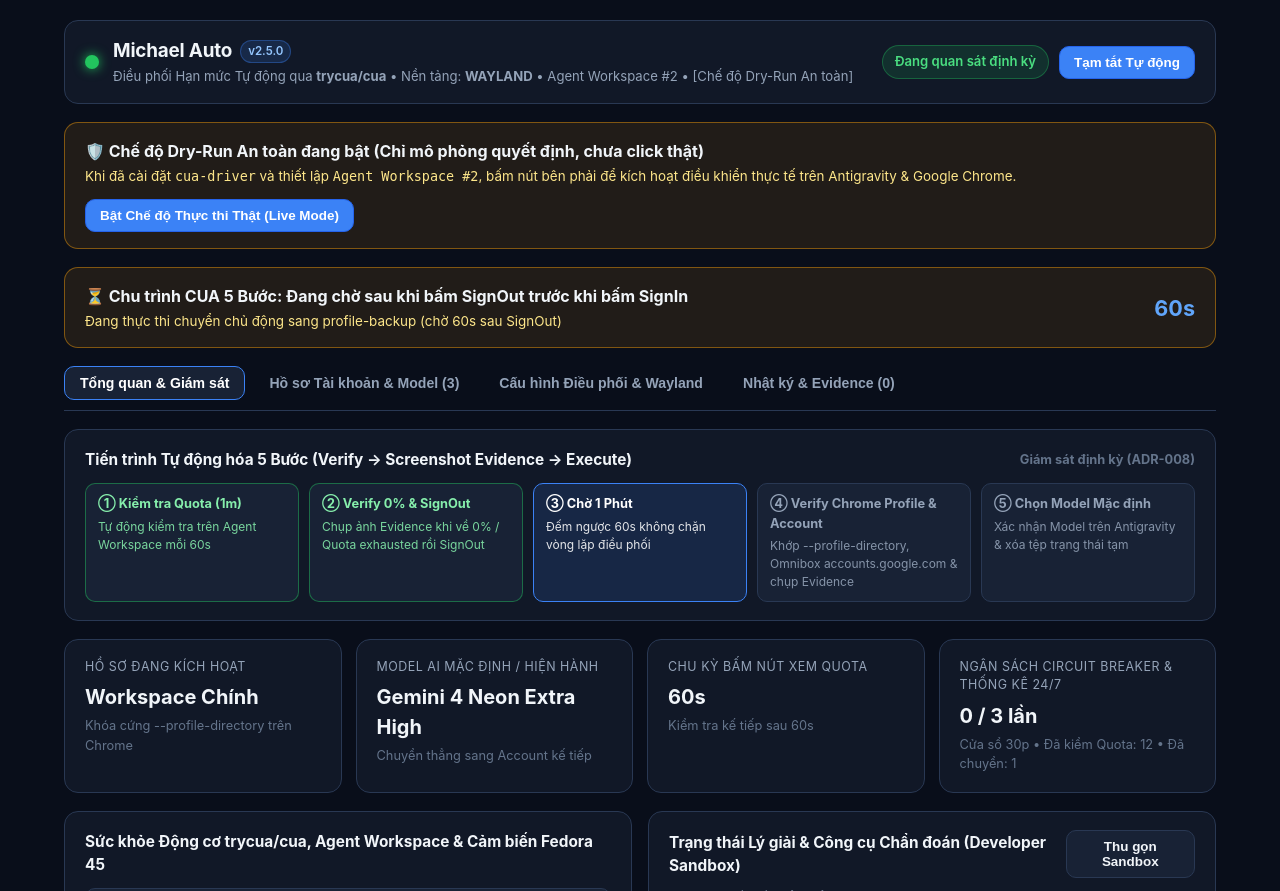
Test: Michael Auto Desktop Dashboard v2.5 Production › surfaces legacy GNOME Bridge v2->v4 relogin warning and supports audit log filtering & clearing
# Navigate to Logs & Evidence tab, filter by ERROR (0 results), then switch back to ALL and clear logs.
Step 1. Click the button "Nhật ký & Evidence (0)" → (819, 383), box [727,366,911,400]
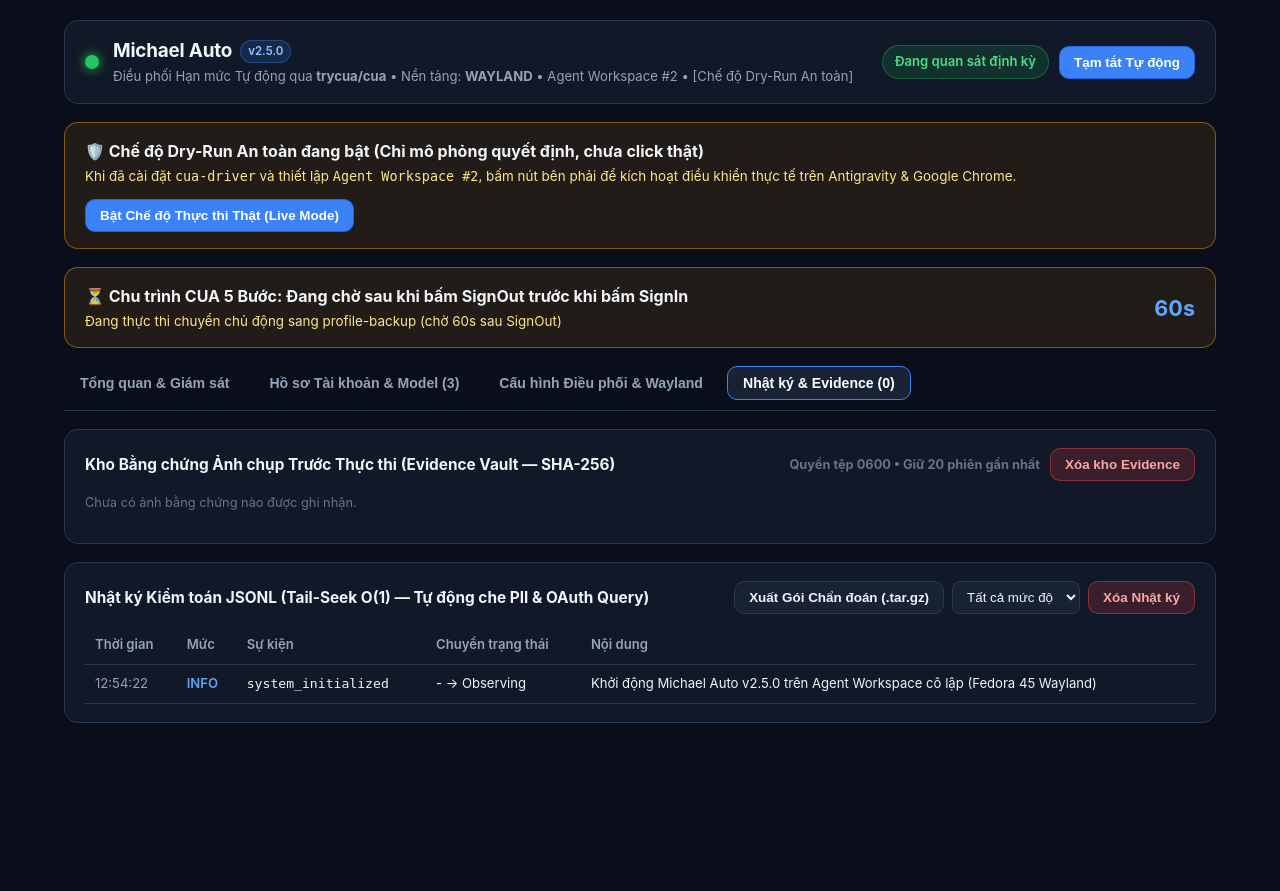
Check: the text "Khởi động Michael Auto v2.5.0" is shown, box [591,675,1097,691]
Step 2. Select "ERROR" in the dropdown → (1016, 598), box [952,581,1080,614]
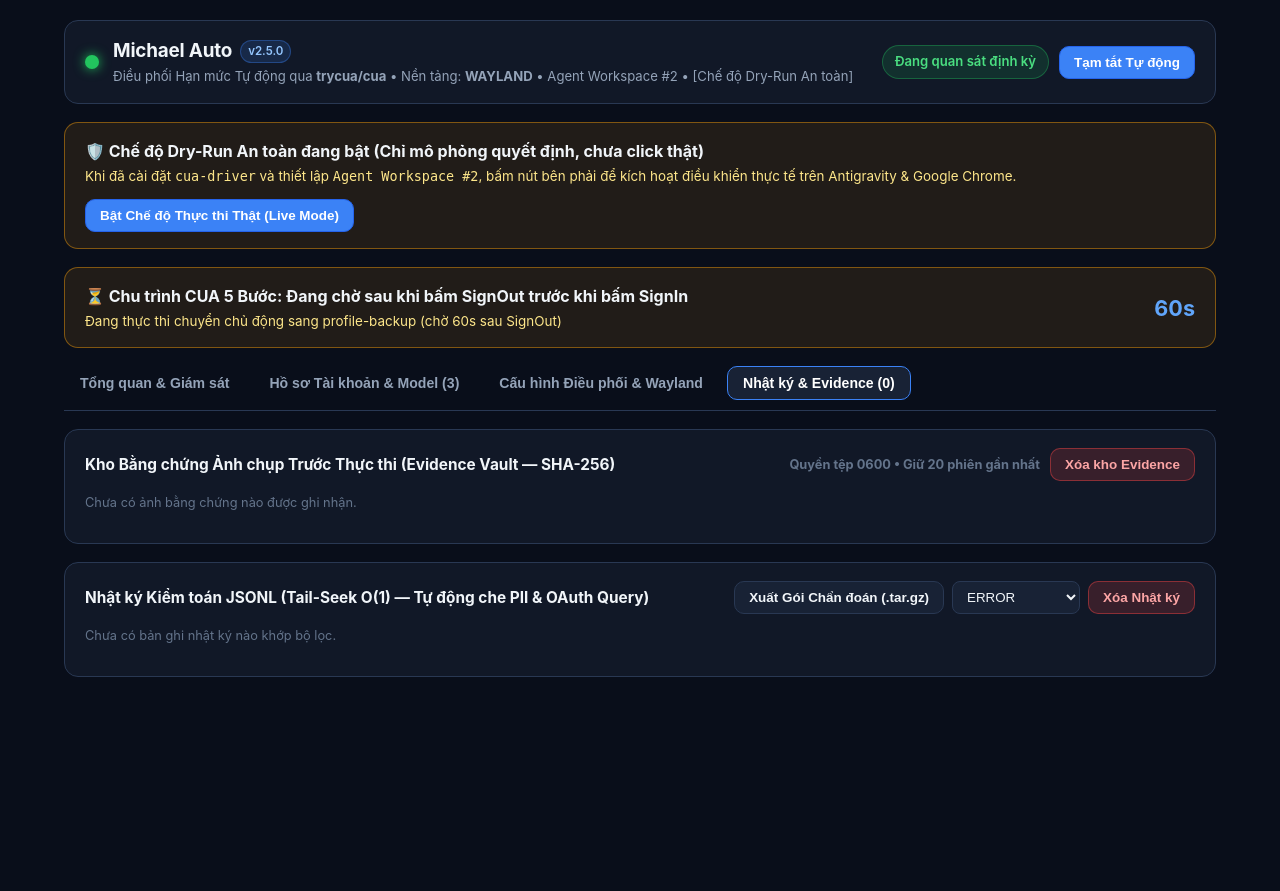
Check: the text "Khởi động Michael Auto v2.5.0" is gone
Step 3. Select "Tất cả mức độ" in the dropdown → (1016, 598), box [952,581,1080,614]
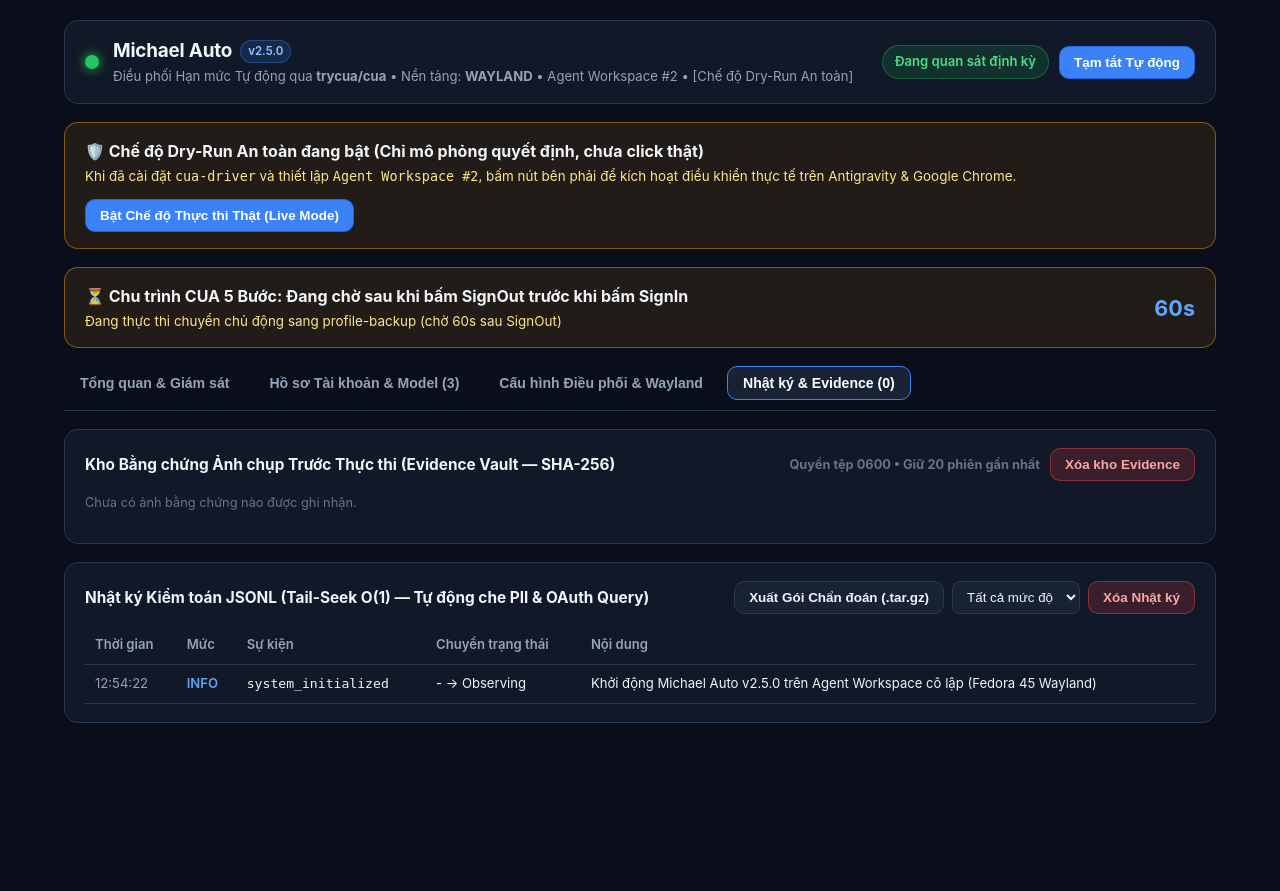
Check: the text "Khởi động Michael Auto v2.5.0" is shown, box [591,675,1097,691]
Step 4. Click the button "Xóa Nhật ký" → (1142, 598), box [1088,581,1195,614]
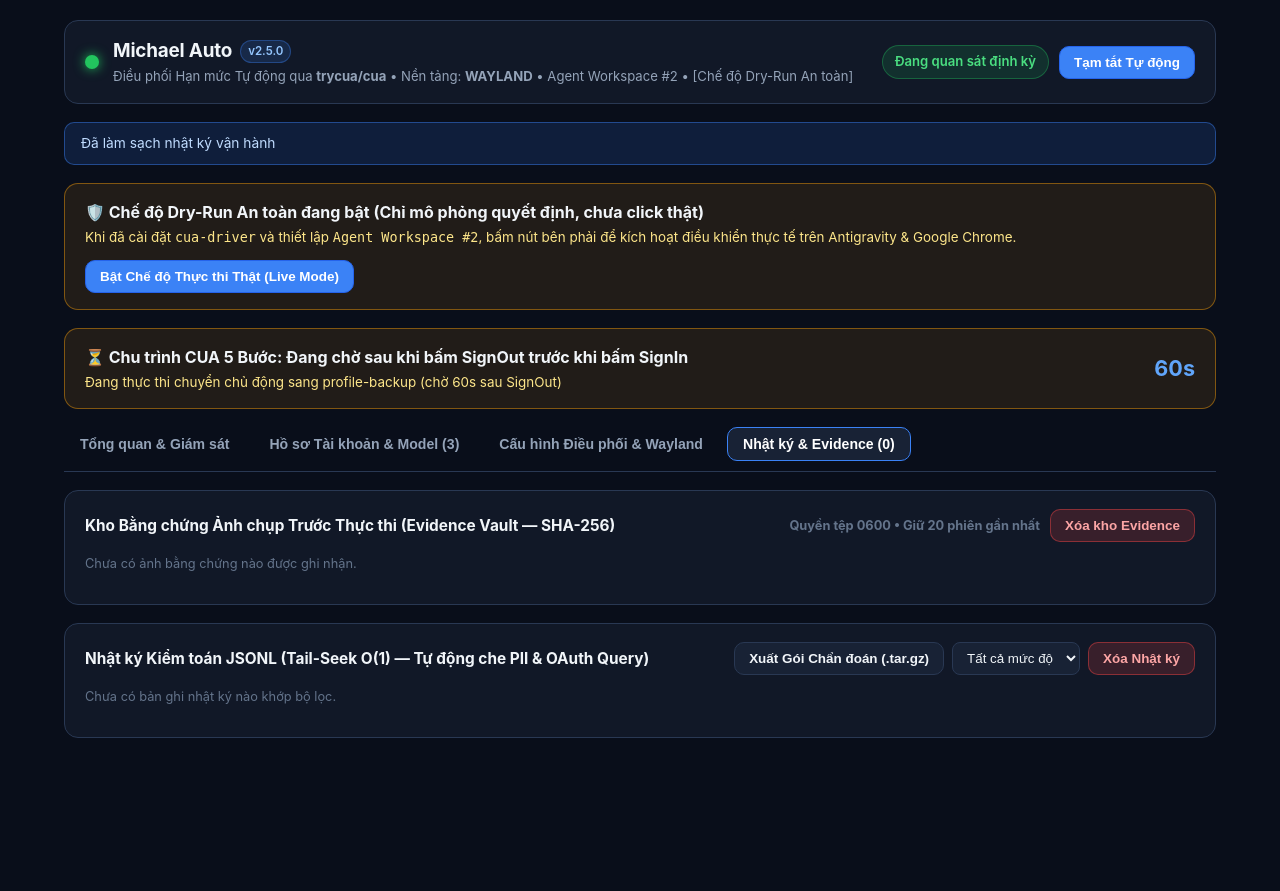
Check: the text "Khởi động Michael Auto v2.5.0" is gone
